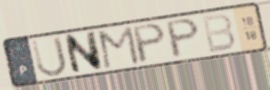B: (200, 12, 238, 55)
M: (97, 24, 142, 71)
N: (62, 29, 104, 76)
P: (131, 22, 168, 66), (165, 17, 202, 61)
U: (29, 35, 69, 79)
